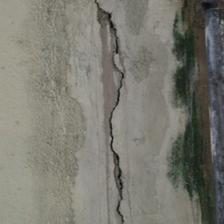Crack: (47, 2, 82, 219)
